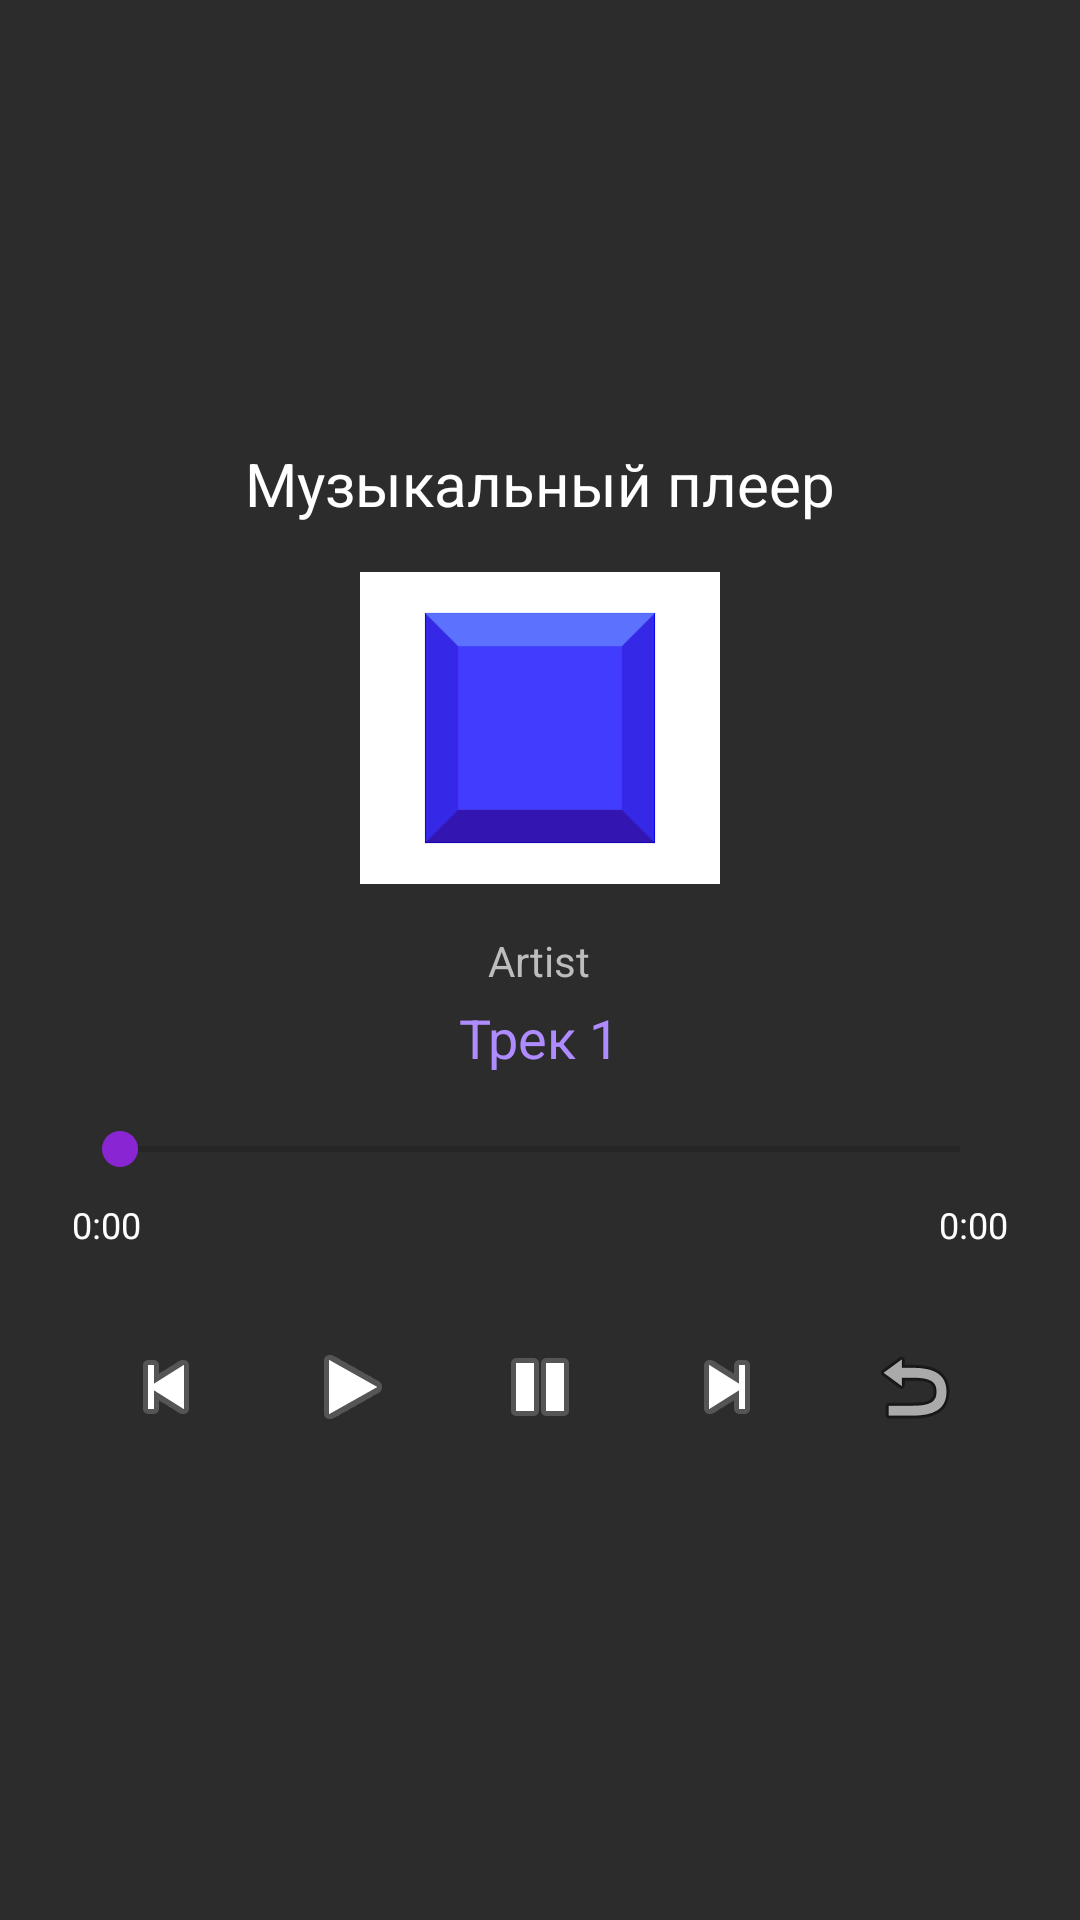

Screen size 1080 x 1920. Icon name, then its center in pixels as [x,y]:
next: [727,1387]
pause: [540,1387]
play: [353,1387]
previous: [166,1387]
revert: [915,1388]
